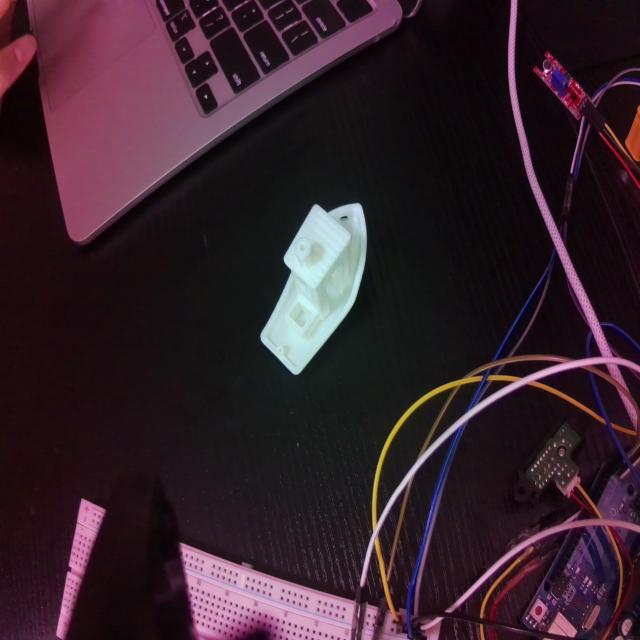ship: (260, 200, 366, 376)
